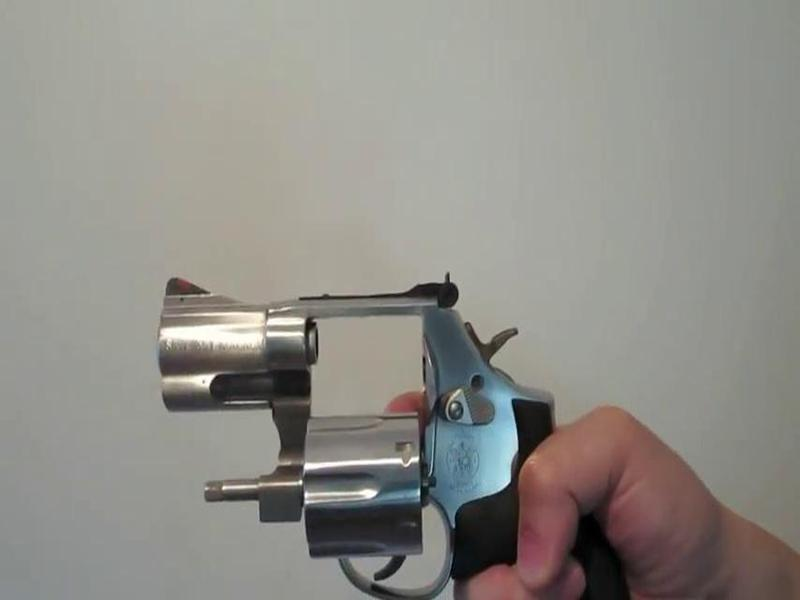Revolver: (122, 274, 613, 600)
